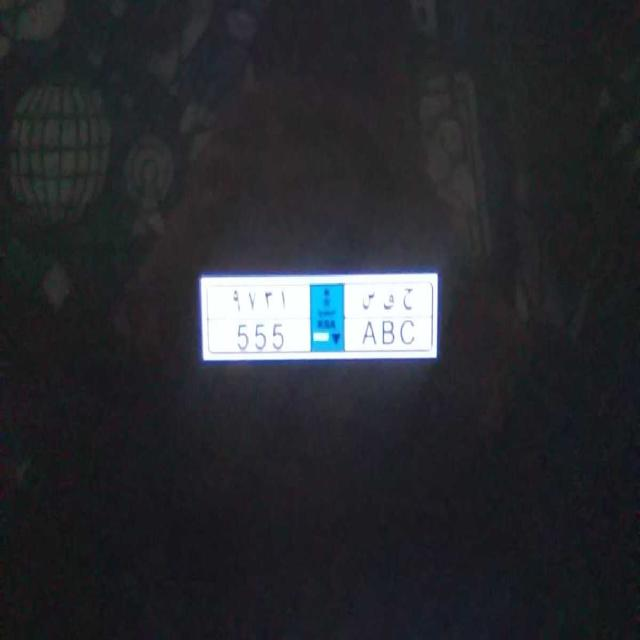license_plate: (224, 314, 427, 356)
